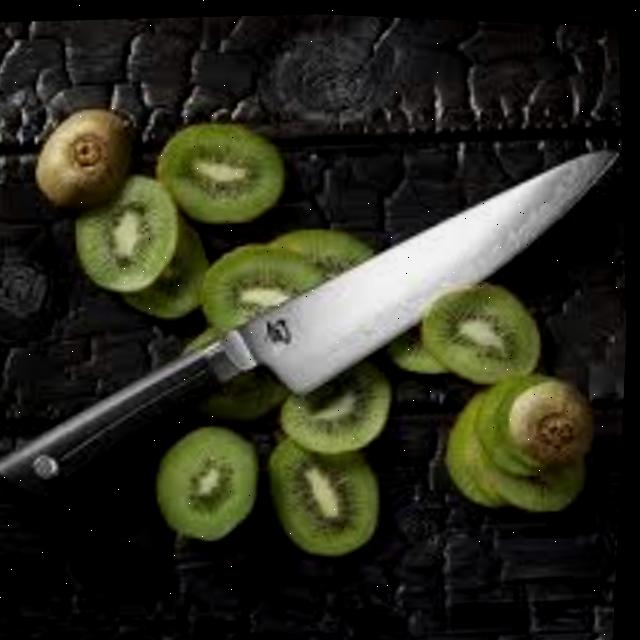Knife: (0, 116, 636, 519)
